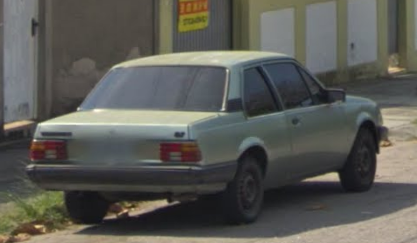car: (27, 51, 389, 223)
